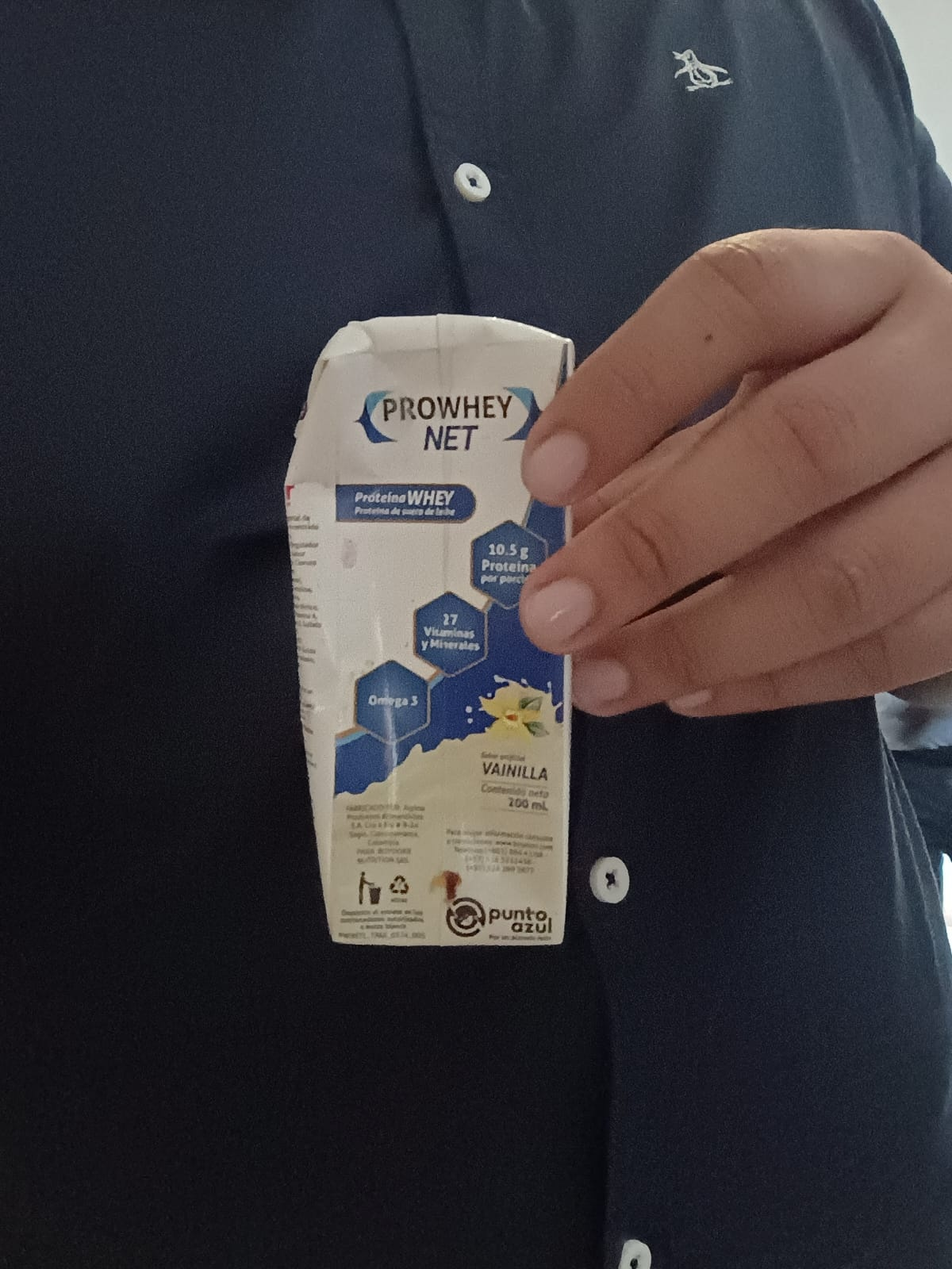Carton: (285, 310, 579, 943)
